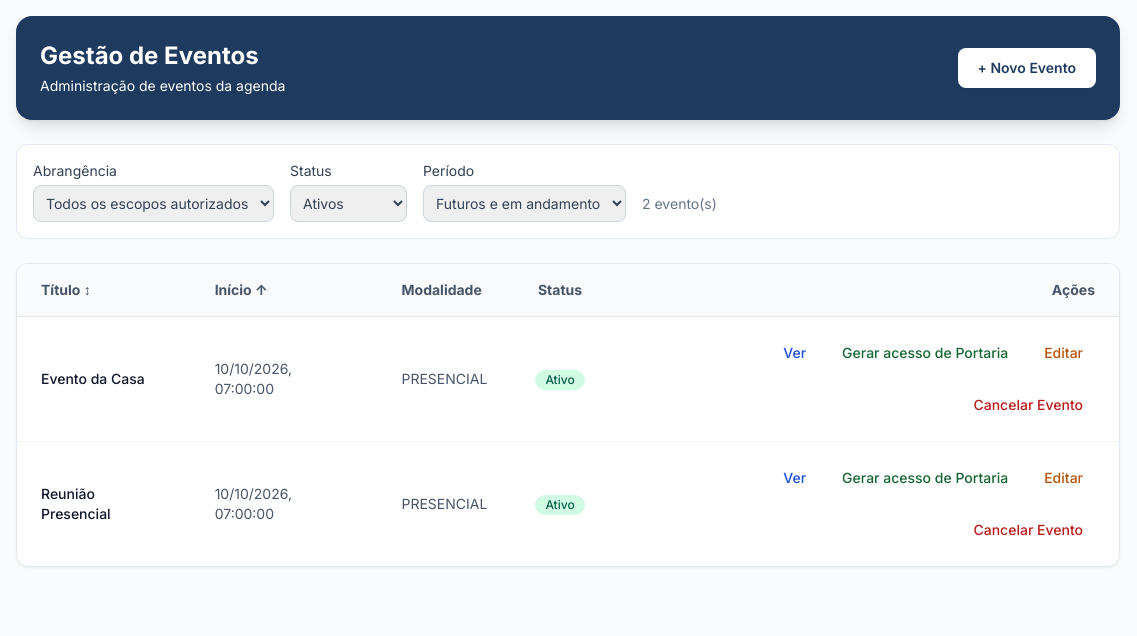
Scenario: EventosView › gestor filtra a Administração incluindo eventos de Casas subordinadas
Expected: the text "Evento da Casa" is shown, x1=17 y1=316 x2=191 y2=442
Select "Administração" in the dropdown named "Filtrar por tipo de escopo" at (154, 204), box x1=33 y1=185 x2=274 y2=222
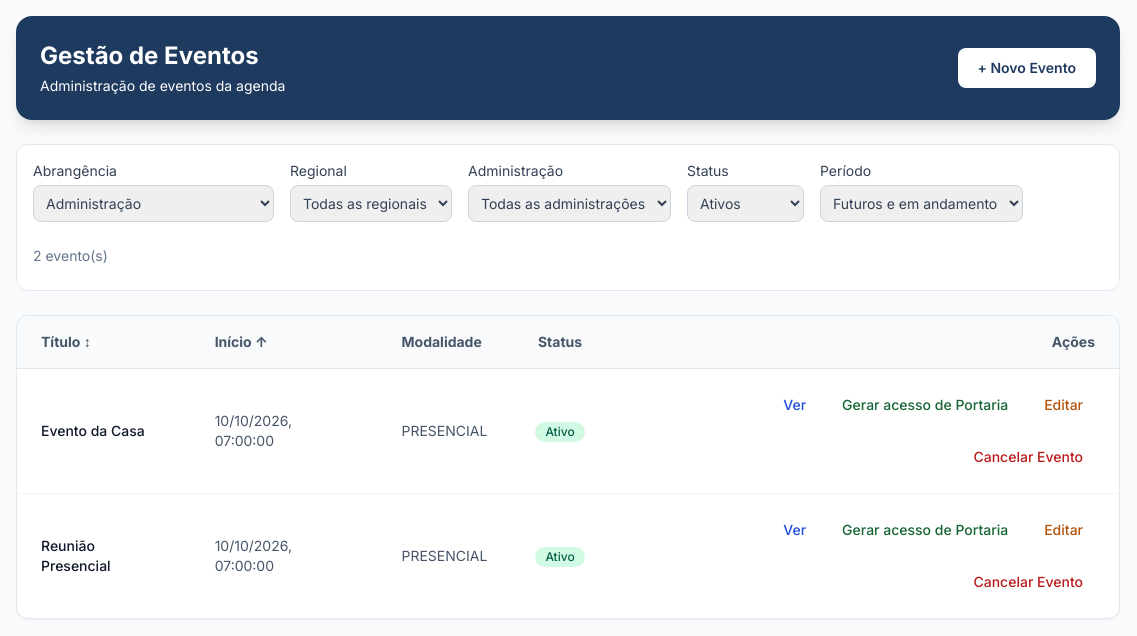
Select "Reg 1" in the dropdown named "Filtrar por Regional" at (371, 204), box x1=290 y1=185 x2=452 y2=222
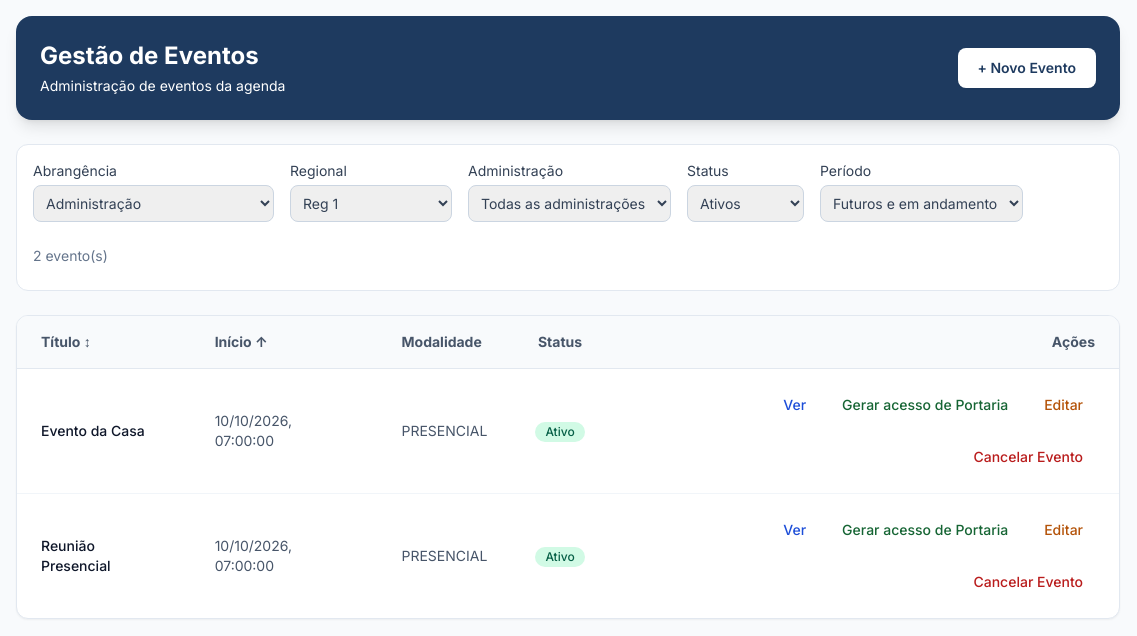
Select "Administração SP" in the dropdown named "Filtrar por Administração" at (570, 204), box x1=468 y1=185 x2=671 y2=222
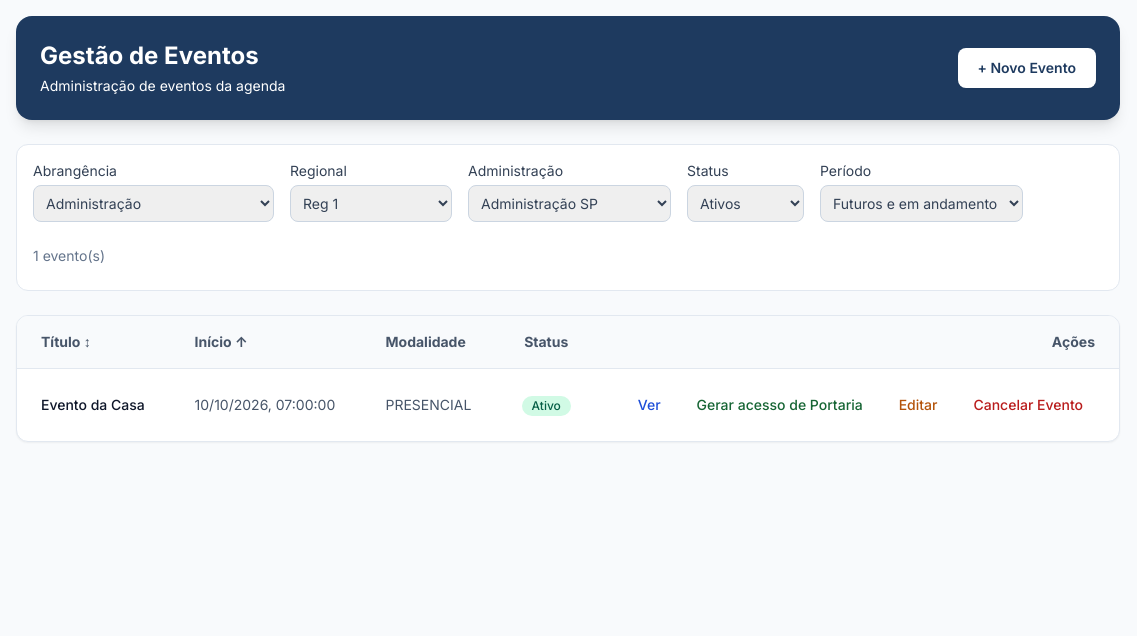
Expected: the text "Evento da Casa" is shown, x1=17 y1=368 x2=171 y2=441
Now the text "Reunião Presencial" is gone
